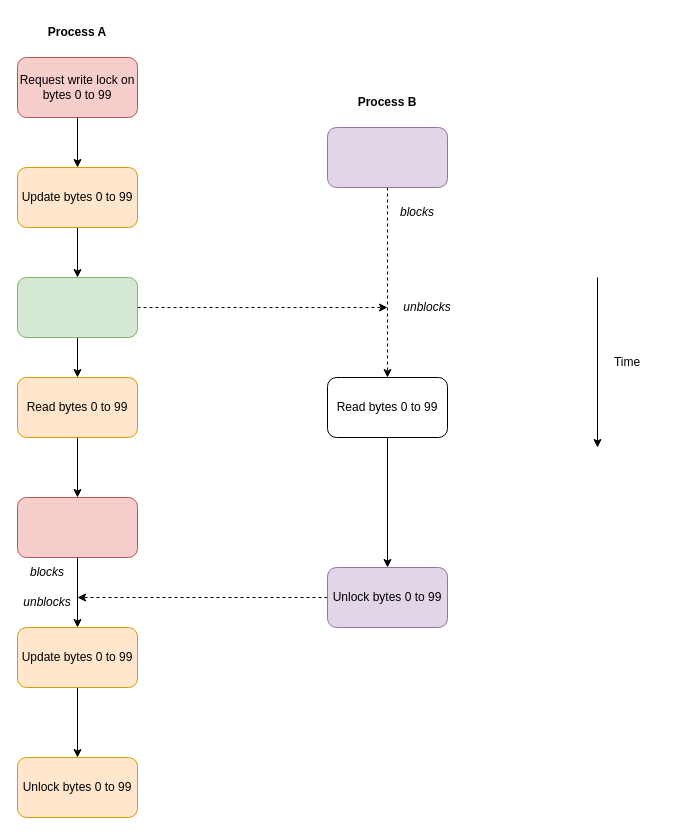
The diagram is 675 pixels wide and 835 high, and some of its shapes have lost their labels. Here are the shapes that lost their labels. From the top down, the centre of each, then its label:
point 387,157: Request read lock on bytes 0 to 99
point 77,307: Convert lock on bytes 0 to 99 to read lock
point 77,527: Convert lock on bytes 0 to 99 to write lock
